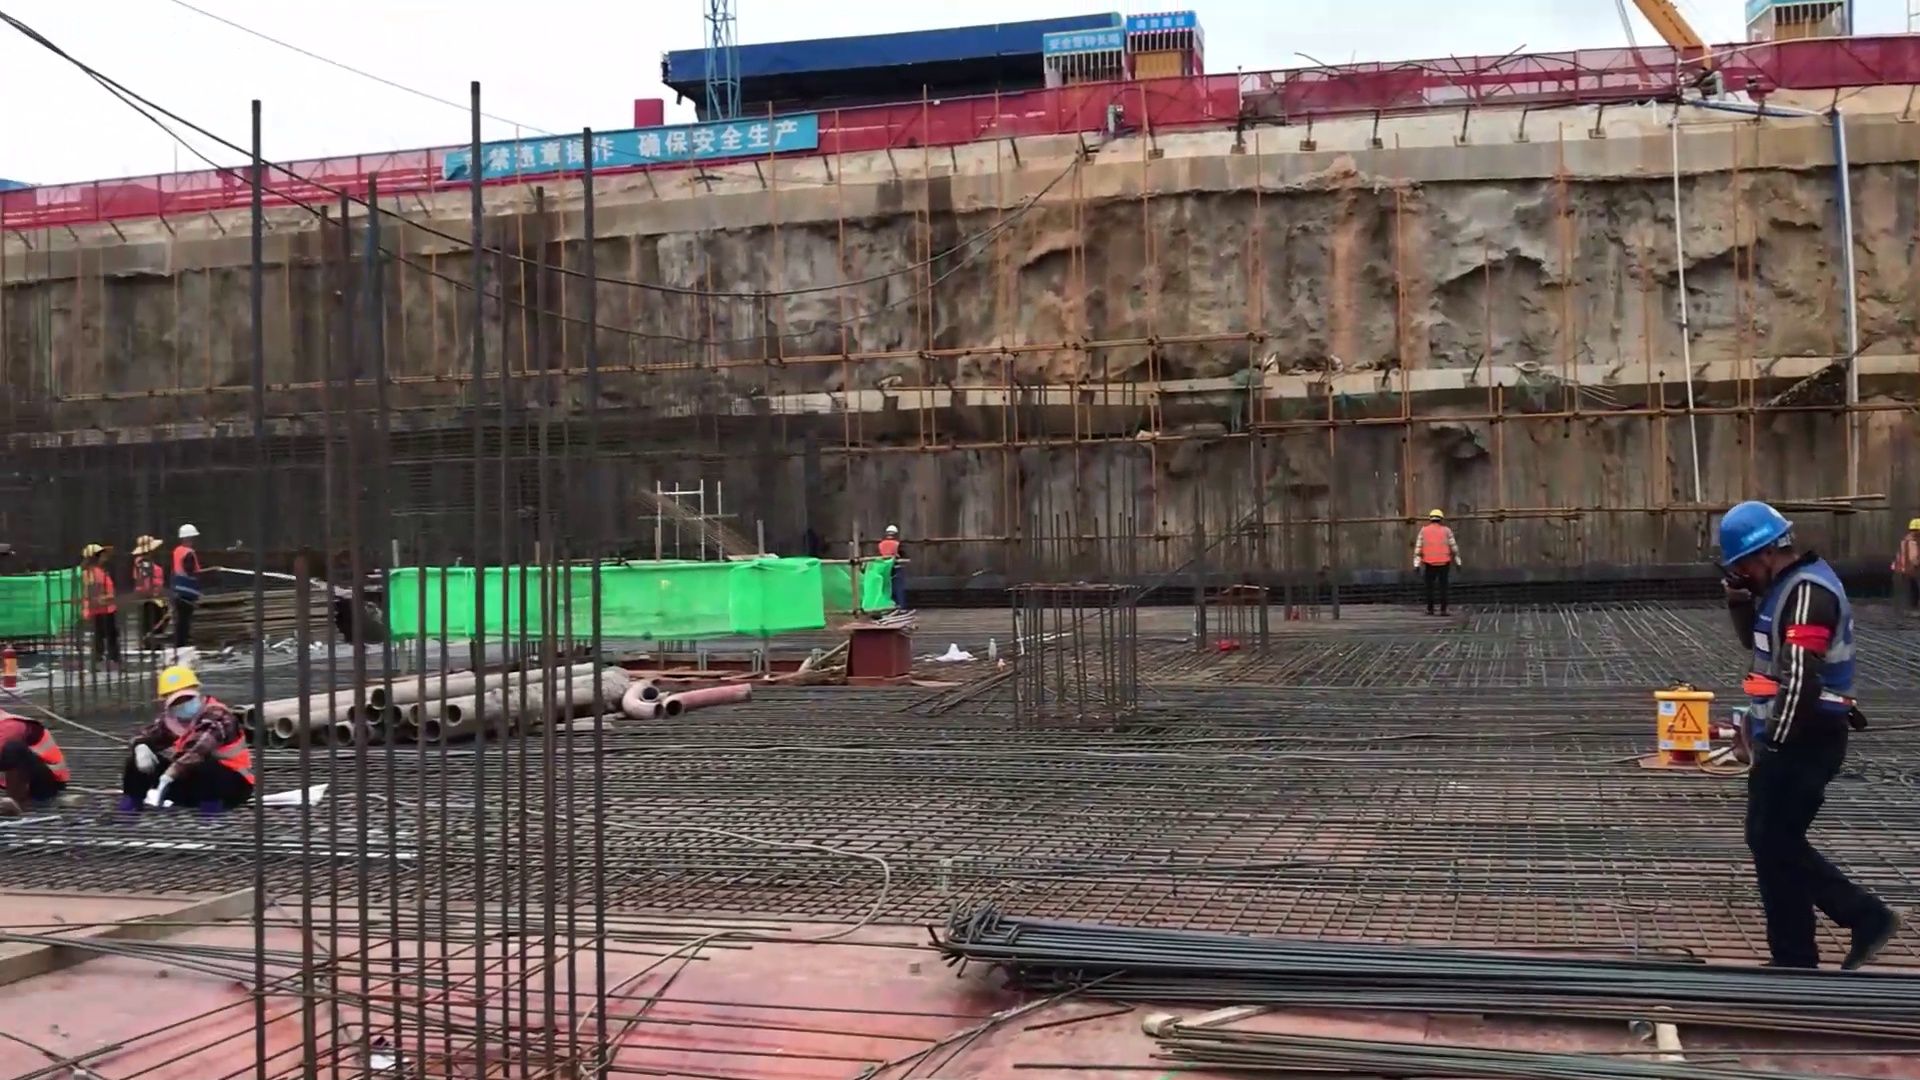ebox: (1633, 661, 1732, 777)
fence: (1268, 32, 1920, 136), (832, 90, 1269, 168), (6, 164, 422, 232)
helmet: (1721, 497, 1792, 576), (145, 660, 207, 697), (129, 534, 165, 558), (77, 543, 106, 564), (1424, 503, 1454, 518), (175, 524, 203, 541), (877, 521, 900, 533)
person: (1705, 501, 1913, 974), (110, 660, 260, 812), (1, 701, 72, 818), (1411, 504, 1469, 623), (127, 531, 181, 649), (71, 539, 120, 656), (169, 519, 209, 650), (865, 520, 901, 557)
rebar: (922, 881, 1920, 1060)
slogan: (422, 119, 832, 193), (1035, 16, 1130, 98), (1124, 1, 1201, 68)
vest: (1743, 552, 1874, 758), (164, 701, 258, 782), (2, 708, 74, 784), (1410, 518, 1464, 572), (80, 565, 117, 622), (173, 547, 203, 604), (874, 533, 913, 570), (135, 555, 163, 599)
